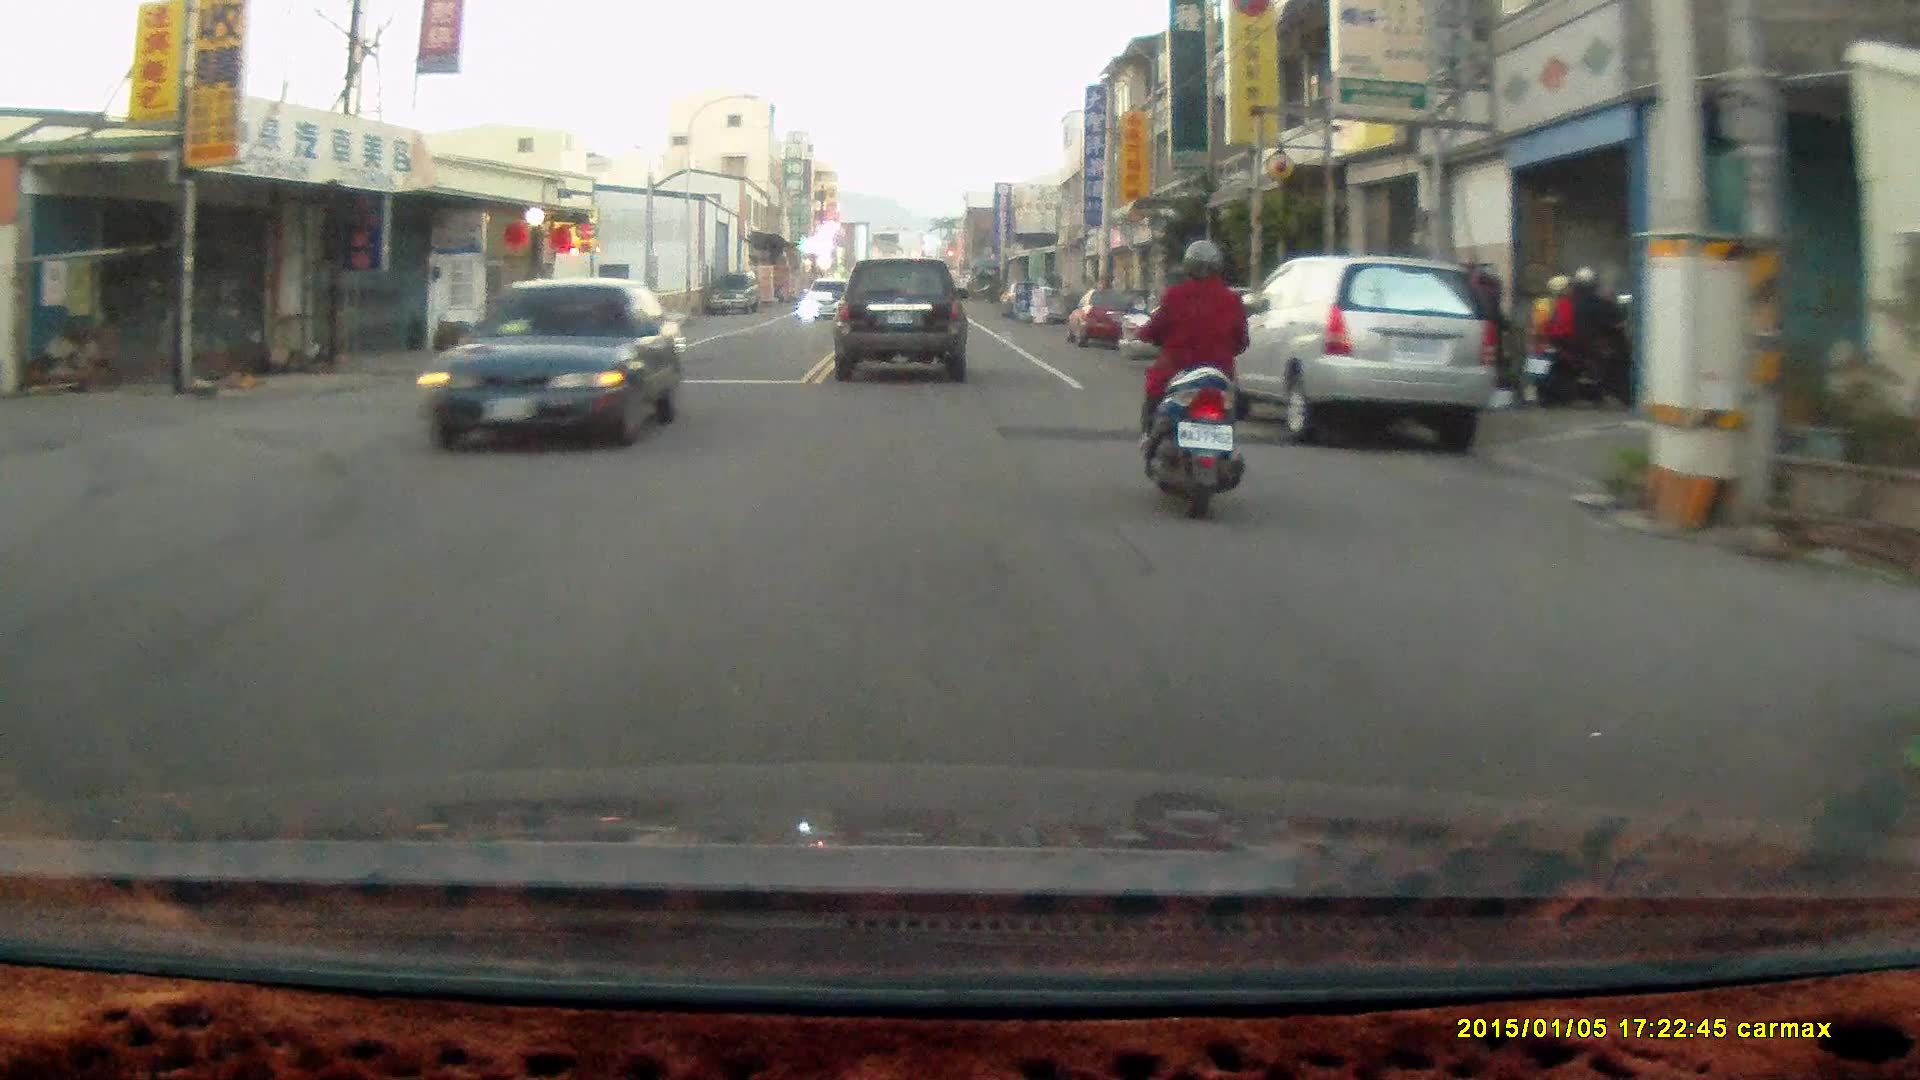rider: (1129, 238, 1246, 523), (1527, 257, 1625, 407)
vehicle: (1217, 259, 1493, 451), (423, 278, 685, 455), (832, 259, 970, 386), (1068, 289, 1146, 350)
